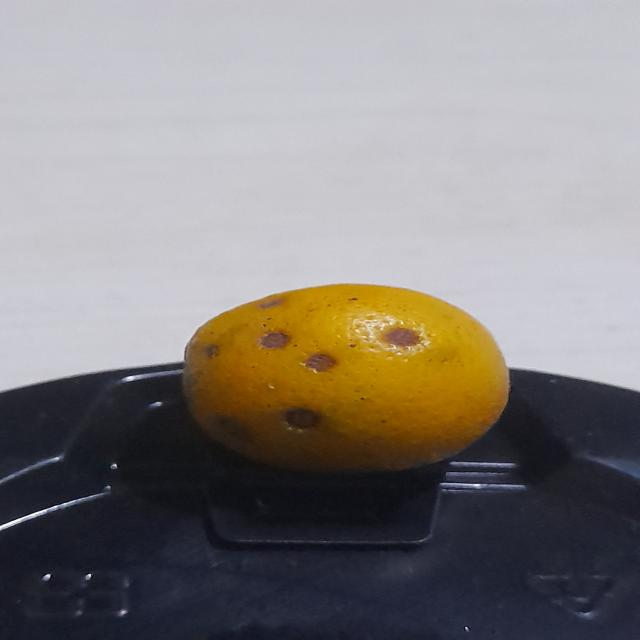black spot: (180, 279, 516, 478)
